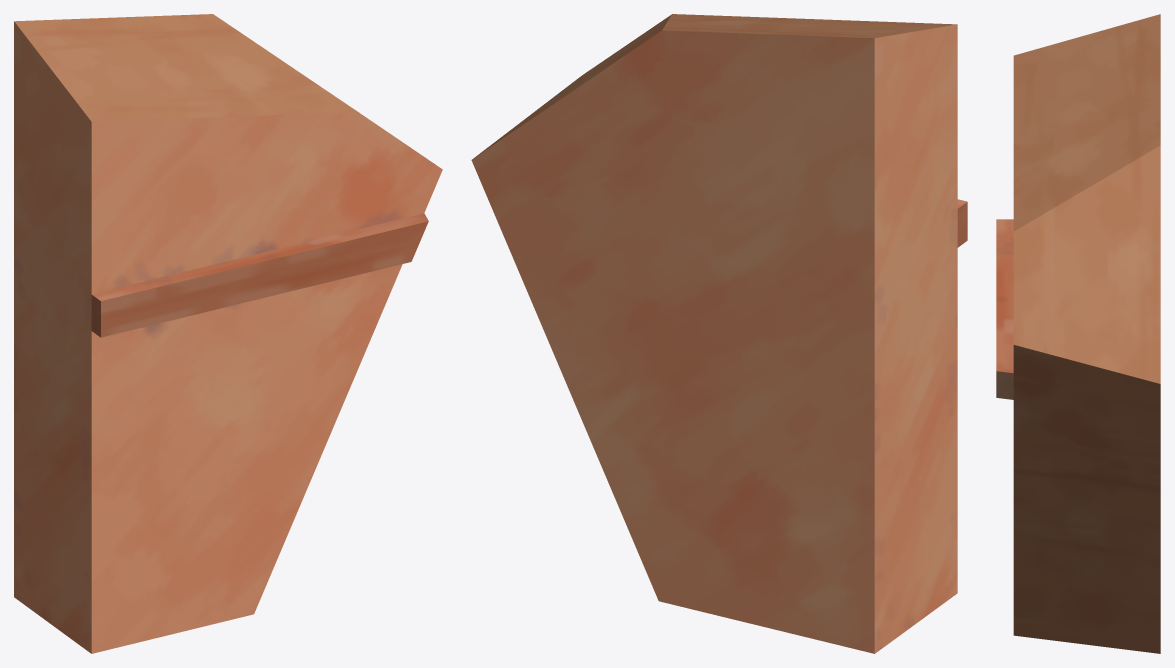
File: wall2_upper_window_s08.fbx
The picture shows the model from 3 angles, left to right: view 1: azimuth 30°, elevation 25°; view 2: azimuth 150°, elevation 25°; view 3: azimuth 270°, elevation 25°; orthographic projection. The views are drawn at different scales.
Parts seen in each view (by area): view 1: wall2_upper_window_s08; view 2: wall2_upper_window_s08; view 3: wall2_upper_window_s08.
Part boxes in pixels (box(x1,y1,x2,y2)): wall2_upper_window_s08: box(14, 14, 442, 653); wall2_upper_window_s08: box(471, 14, 967, 653); wall2_upper_window_s08: box(996, 14, 1160, 653).
Size of the model in its own units: 2.81 by 4.1 by 1.12.
